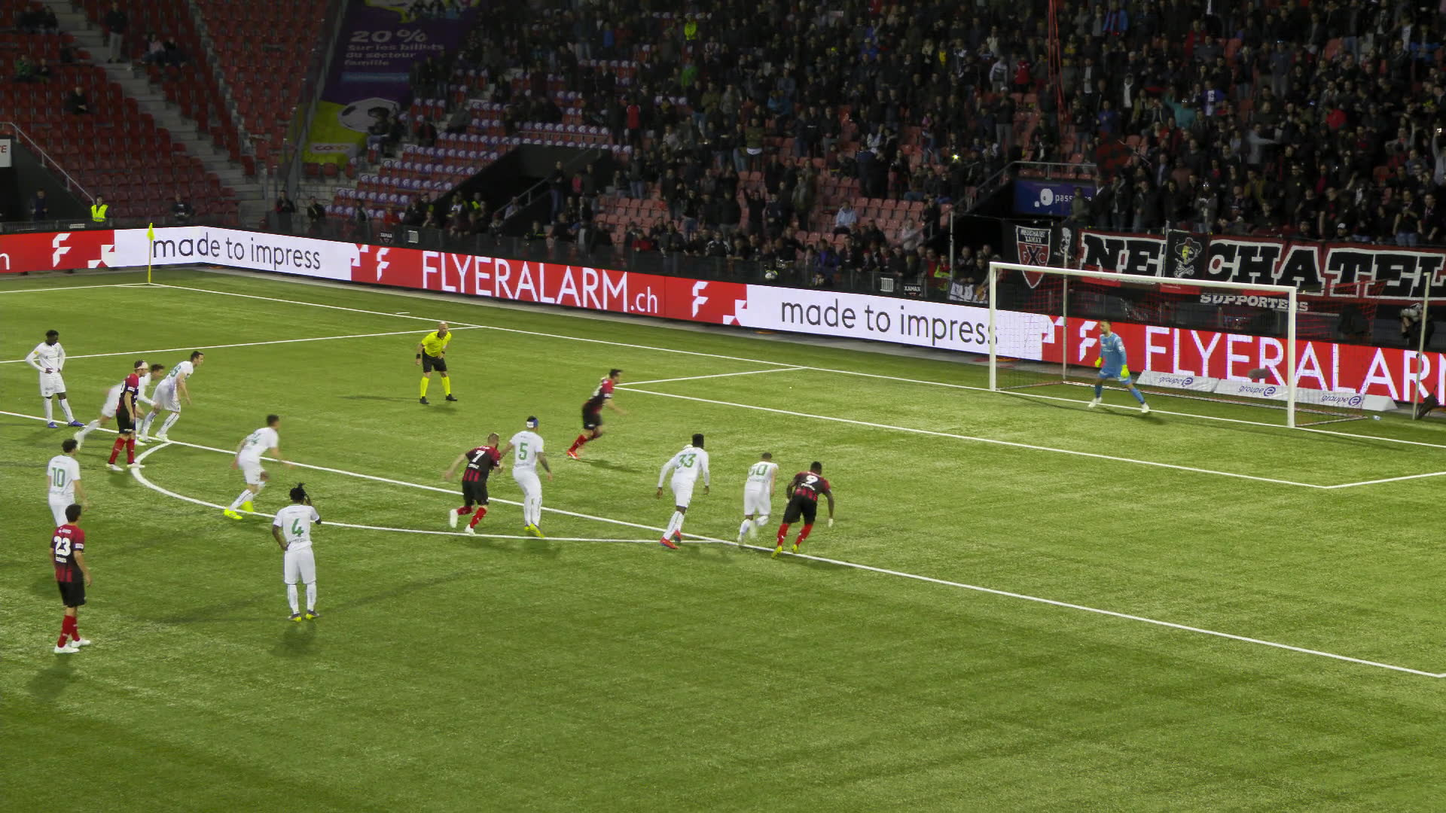ball: (684, 444, 691, 449)
player: (212, 413, 288, 520), (72, 364, 161, 448), (496, 416, 552, 537), (272, 482, 321, 620), (438, 431, 501, 537), (560, 367, 629, 460), (771, 459, 834, 557), (657, 432, 708, 549), (50, 504, 90, 653), (25, 329, 81, 427), (1091, 317, 1147, 413), (147, 351, 203, 442), (105, 360, 148, 470), (732, 451, 779, 547), (47, 438, 87, 525)
referee: (416, 321, 457, 404)
